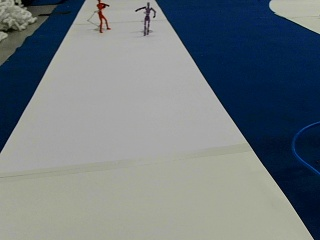pedestrian: (135, 1, 155, 34), (95, 0, 110, 31)
